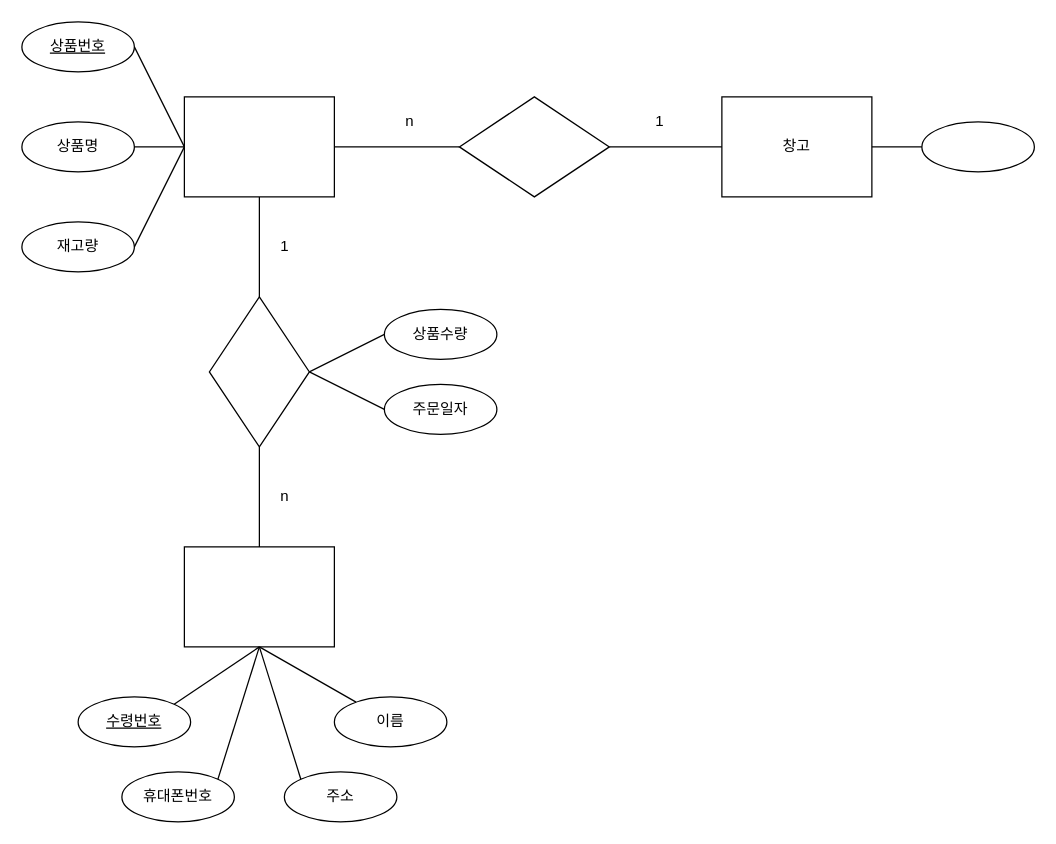
The diagram is 1056 pixels wide and 844 high, and some of its shapes have lost their labels. Here are the shapes that lost their labels. From the top down, the centre of each, then its label:
At point (258, 146): "상품".
At point (533, 146): "보관".
At point (977, 146): "위치".
At point (258, 371): "주문".
At point (258, 596): "수령인".
